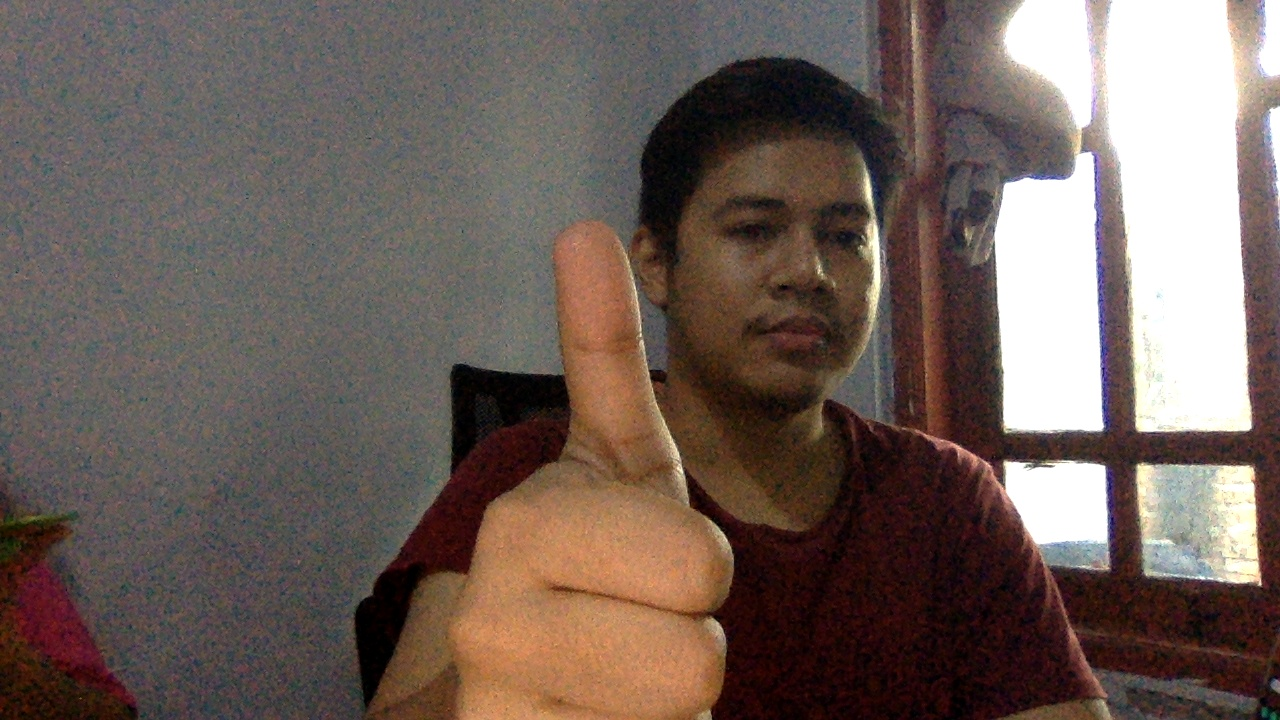thumbsup: (436, 200, 755, 720)
